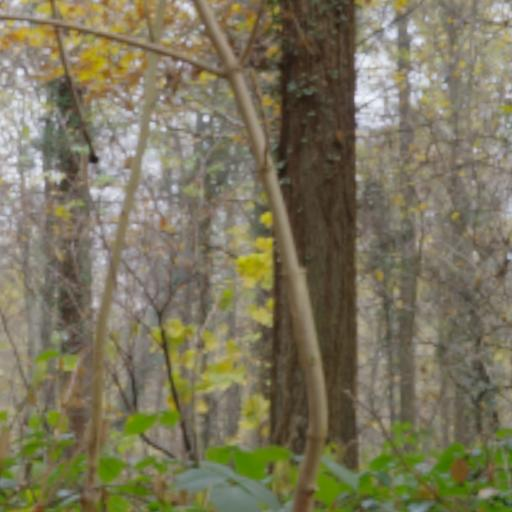nothing: (1, 0, 512, 510)
